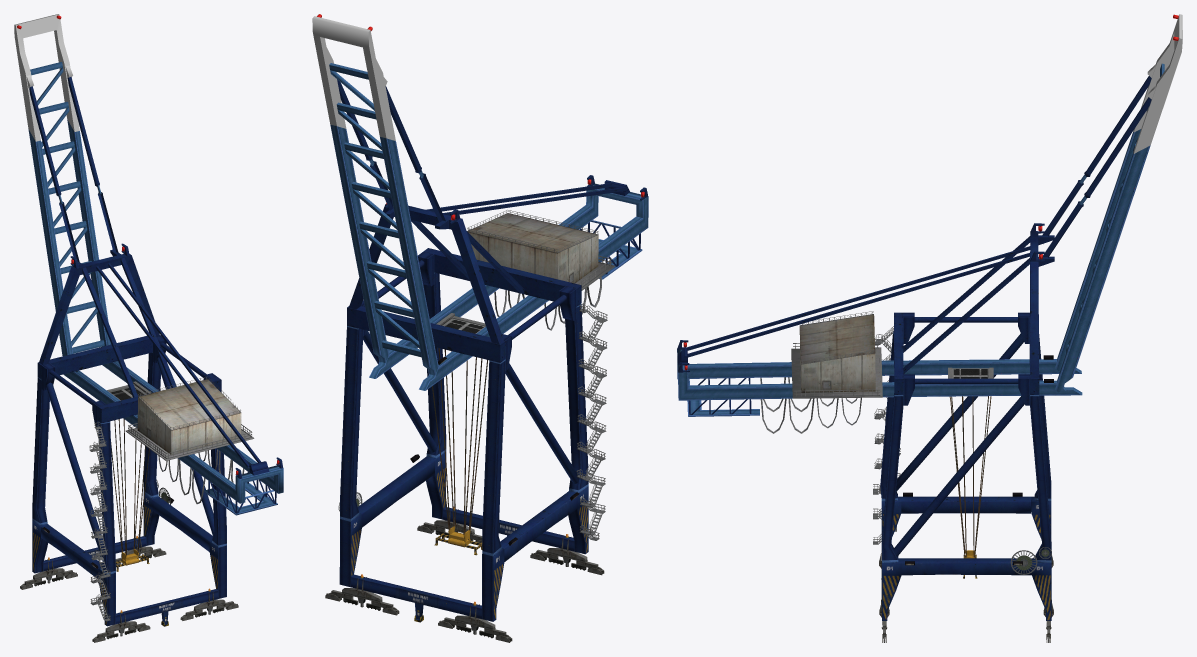
File: 02_port_crane.fbx
3 renders of one model, left to right at view 1: azimuth 30°, elevation 25°; view 2: azimuth 150°, elevation 25°; view 3: azimuth 270°, elevation 25°, orthographic. The views are drawn at different scales.
Visible parts, largest first — view 1: Body, Parts_proops, Body_5, Ladder, Arrow, Chassis, Parts_cables, Body_4, Body_2, Room; view 2: Body, Body_5, Parts_proops, Ladder, Arrow, Chassis, Parts_cables, Body_4, Body_2, Lift, Room; view 3: Body, Parts_proops, Body_5, Arrow, Ladder, Body_4, Parts_cables, Body_2.
Boxes of the visible parts, x1,y1,x2,y2 form: Body: (32, 243, 283, 626); Parts_proops: (86, 379, 254, 615); Body_5: (28, 62, 111, 356); Ladder: (89, 376, 252, 621); Arrow: (14, 14, 79, 141); Chassis: (20, 538, 238, 642); Parts_cables: (111, 419, 149, 555); Body_4: (29, 77, 99, 196); Body_2: (59, 192, 118, 262); Room: (107, 381, 151, 400); Body: (339, 175, 648, 622); Body_5: (329, 63, 438, 375); Parts_proops: (395, 213, 614, 608); Ladder: (338, 210, 612, 540); Arrow: (312, 16, 395, 140); Chassis: (325, 509, 604, 642); Parts_cables: (432, 348, 487, 534); Body_4: (337, 79, 421, 173); Body_2: (370, 161, 445, 222); Lift: (434, 526, 482, 555); Room: (436, 313, 485, 333); Body: (677, 223, 1082, 620); Parts_proops: (760, 314, 882, 587); Body_5: (1055, 63, 1164, 392); Arrow: (1133, 14, 1182, 153); Ladder: (793, 311, 1051, 574); Body_4: (1084, 76, 1151, 197); Parts_cables: (949, 396, 991, 557); Body_2: (1042, 180, 1083, 257).
Size of the model in its own units: 194 by 652 by 516.
